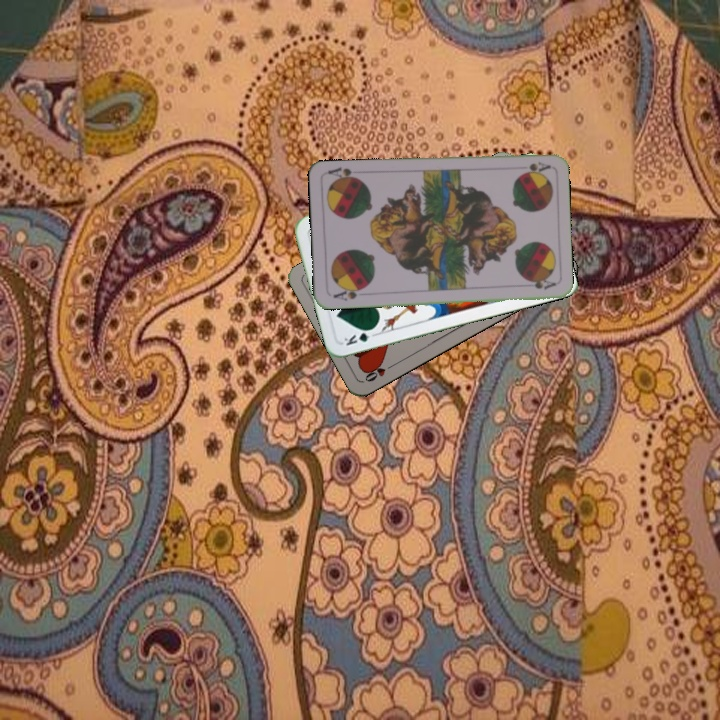GK: (340, 324, 379, 348)
HO: (361, 359, 398, 385)
SA: (329, 283, 368, 303), (517, 158, 552, 176)
